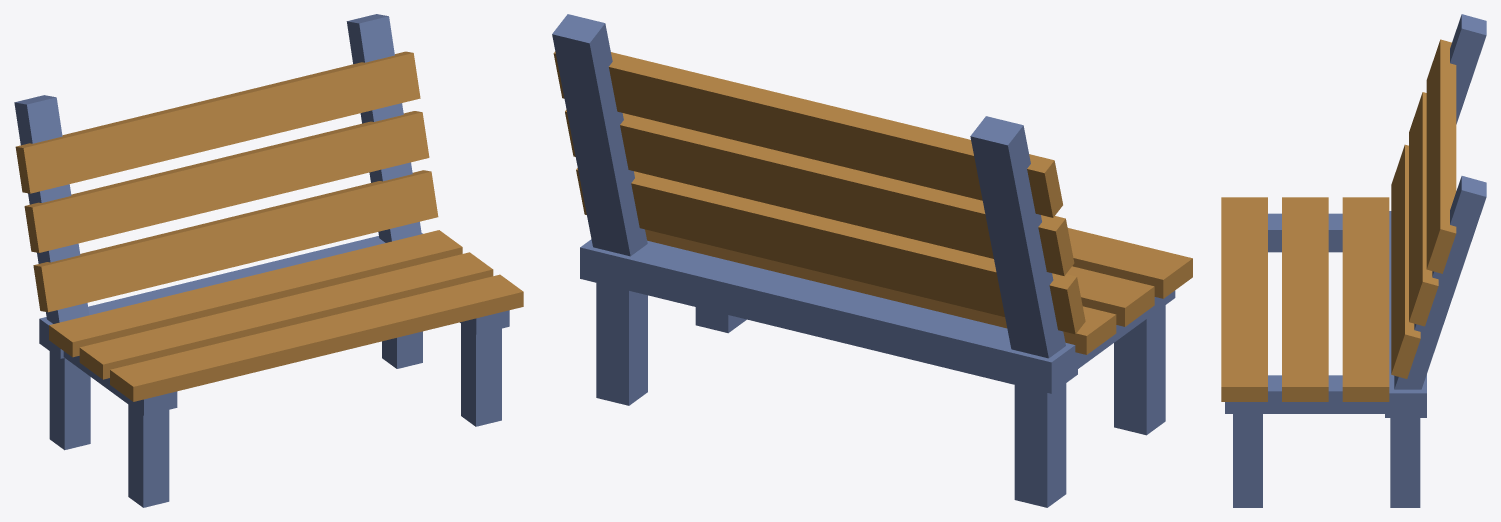
Rendered from Bench.glb.
3 renders of one model, left to right at view 1: azimuth 30°, elevation 25°; view 2: azimuth 150°, elevation 25°; view 3: azimuth 270°, elevation 25°, orthographic. The views are drawn at different scales.
Visible parts, largest first — view 1: Cube.002, Cube.001, Cube, Cube.005, Cube.006, Cube.003; view 2: Cube.002, Cube.006, Cube.005, Cube, Cube.001, Cube.003; view 3: Cube.001, Cube.002, Cube.005, Cube, Cube.003, Cube.006.
Part boxes in pixels (x1,y1,x2,y2): Cube.002: (15,51,438,312); Cube.001: (49,230,523,401); Cube: (49,324,501,507); Cube.005: (14,14,421,323); Cube.006: (39,233,422,358); Cube.003: (63,310,509,415); Cube.002: (553,51,1085,334); Cube.006: (580,239,1077,393); Cube.005: (552,14,1065,358); Cube: (596,283,1165,507); Cube.001: (645,228,1192,354); Cube.003: (1078,290,1175,368); Cube.001: (1221,197,1389,401); Cube.002: (1391,39,1456,378); Cube.005: (1394,14,1486,389); Cube: (1233,414,1420,507); Cube.003: (1225,213,1384,413); Cube.006: (1385,211,1426,417).
Size of the model in its own units: 1.56 by 1.22 by 0.9187.
